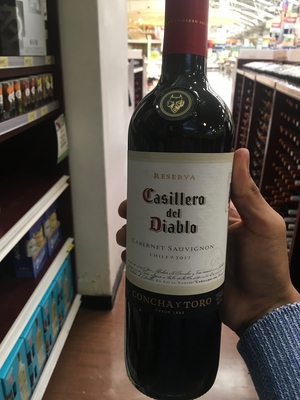casillero del diablo cabernet sauvignon: (113, 12, 238, 400)
